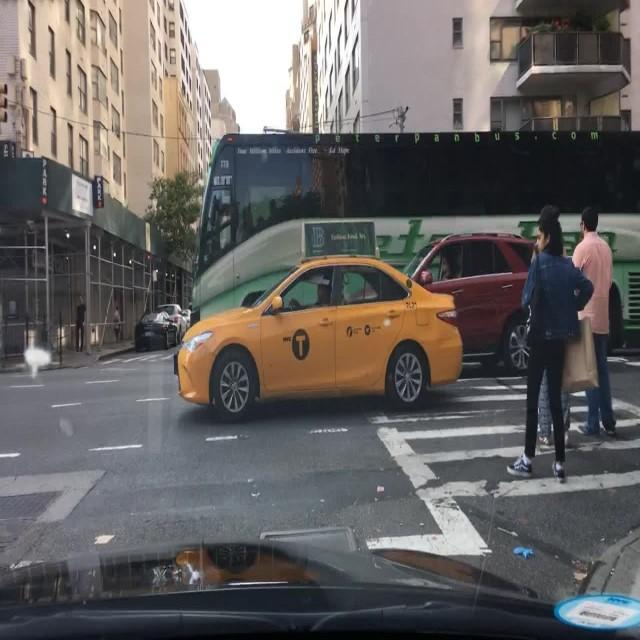normal: (159, 225, 478, 444)
